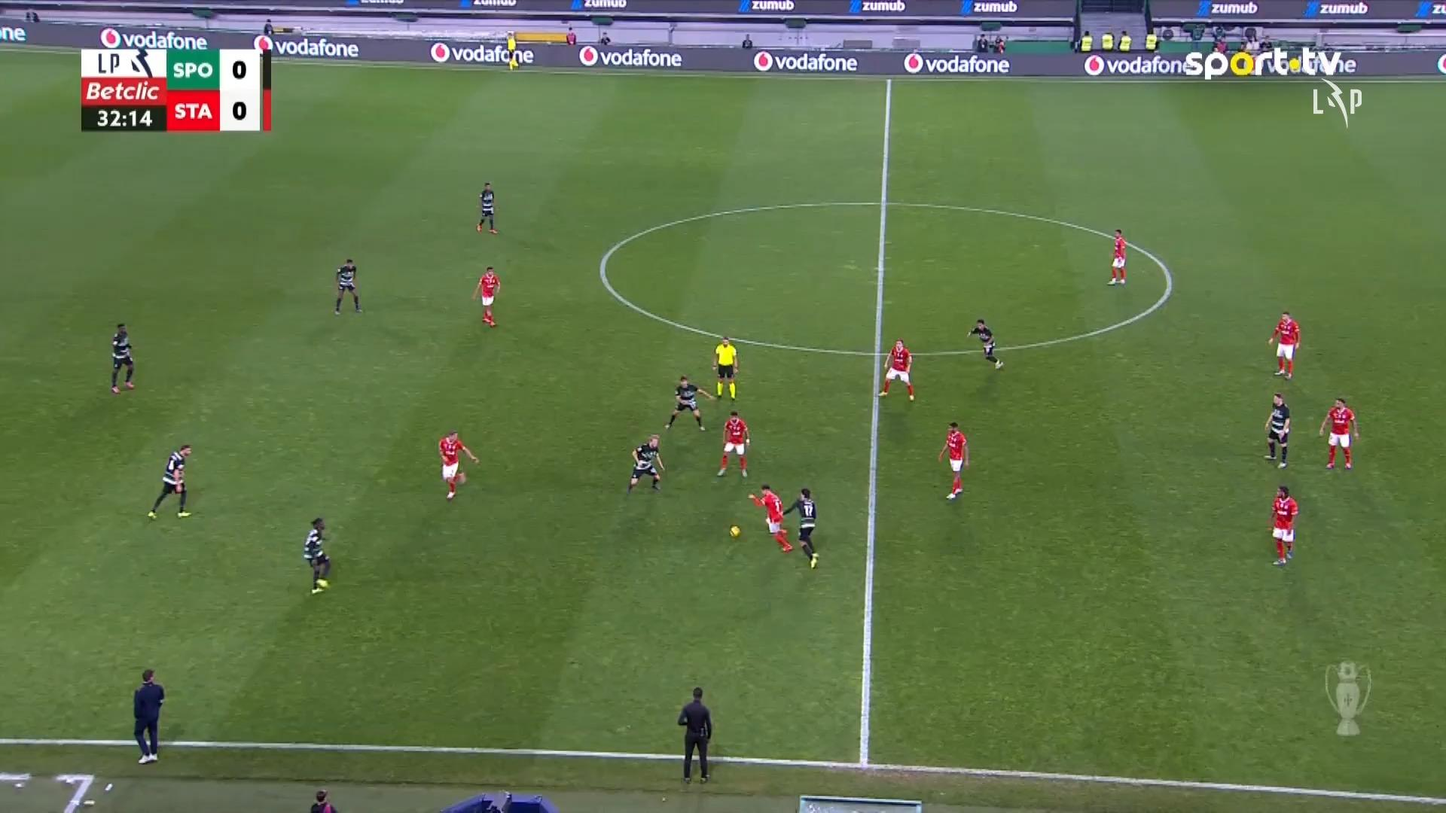ball: (729, 525, 740, 537)
player: (147, 443, 192, 519), (747, 483, 794, 553), (781, 487, 819, 569), (1318, 397, 1359, 470), (438, 430, 480, 500), (664, 374, 712, 431), (938, 421, 969, 500), (877, 338, 915, 400), (1269, 484, 1298, 565), (716, 410, 751, 477), (627, 434, 665, 493), (302, 516, 331, 593), (1268, 310, 1300, 379), (1263, 392, 1291, 468), (109, 322, 136, 394), (966, 318, 1003, 370), (471, 266, 500, 327), (333, 257, 362, 315), (475, 181, 499, 234), (1107, 228, 1127, 285)
referee: (677, 687, 712, 783), (133, 668, 164, 763), (712, 335, 739, 400), (506, 32, 520, 71)
